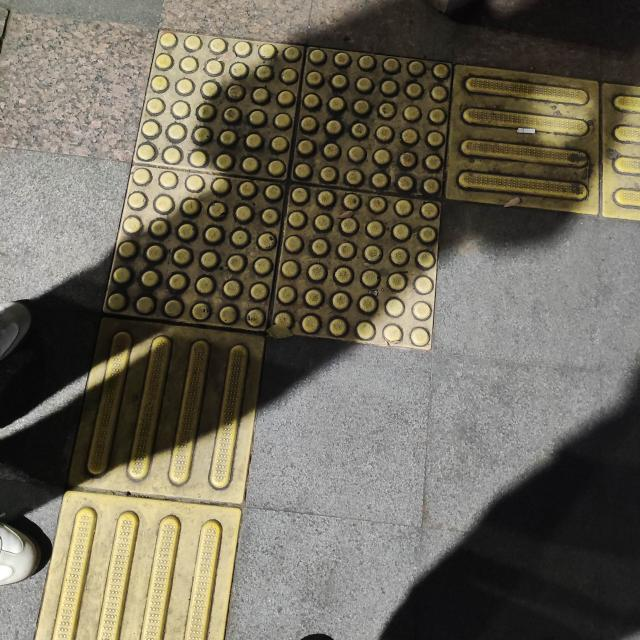kanan: (53, 0, 639, 417)
